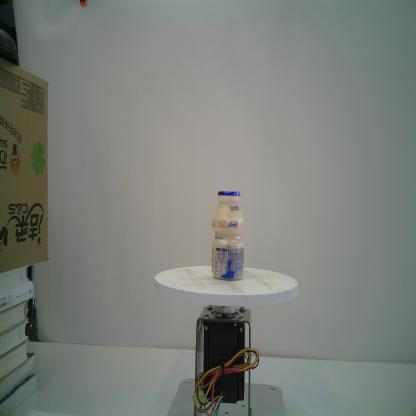Milk: (210, 188, 245, 285)
